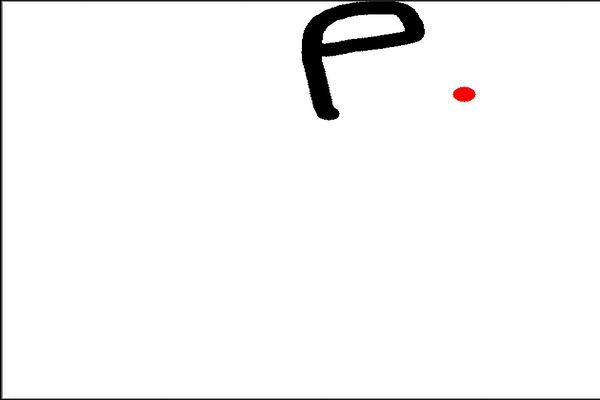P: (294, 0, 427, 127)
